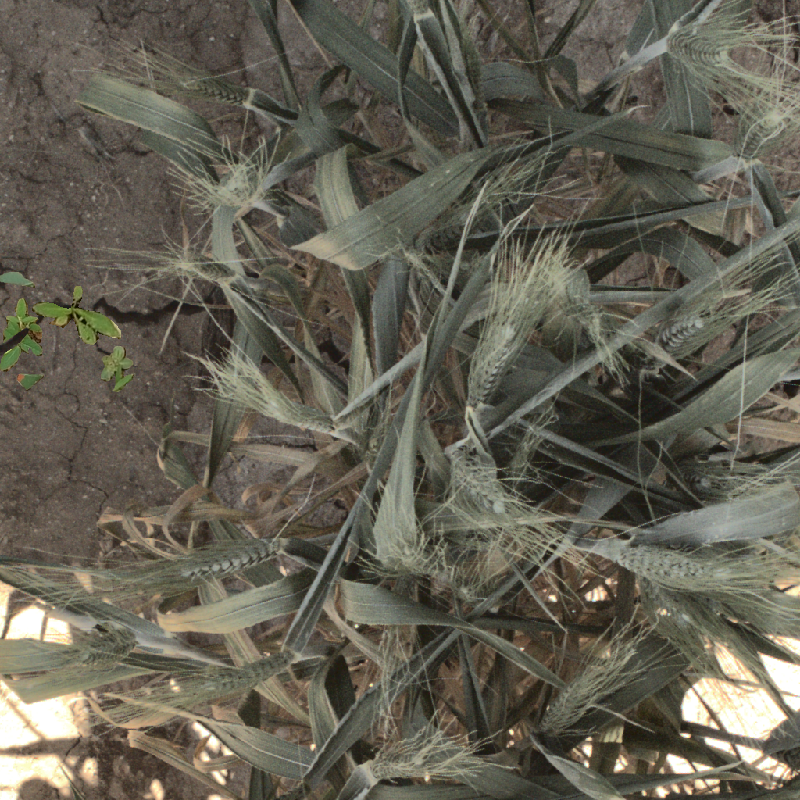spikelet: (217, 352, 337, 438), (537, 639, 640, 738), (590, 533, 738, 593), (177, 646, 299, 704), (444, 446, 518, 527), (177, 531, 289, 582), (464, 318, 519, 407), (422, 185, 502, 243), (556, 281, 615, 346), (660, 21, 732, 70), (733, 105, 789, 167), (370, 747, 477, 778), (171, 251, 251, 291), (655, 309, 708, 354), (80, 635, 140, 670), (217, 169, 259, 207)
weed: (1, 265, 60, 398), (32, 286, 121, 345), (101, 346, 134, 392)
